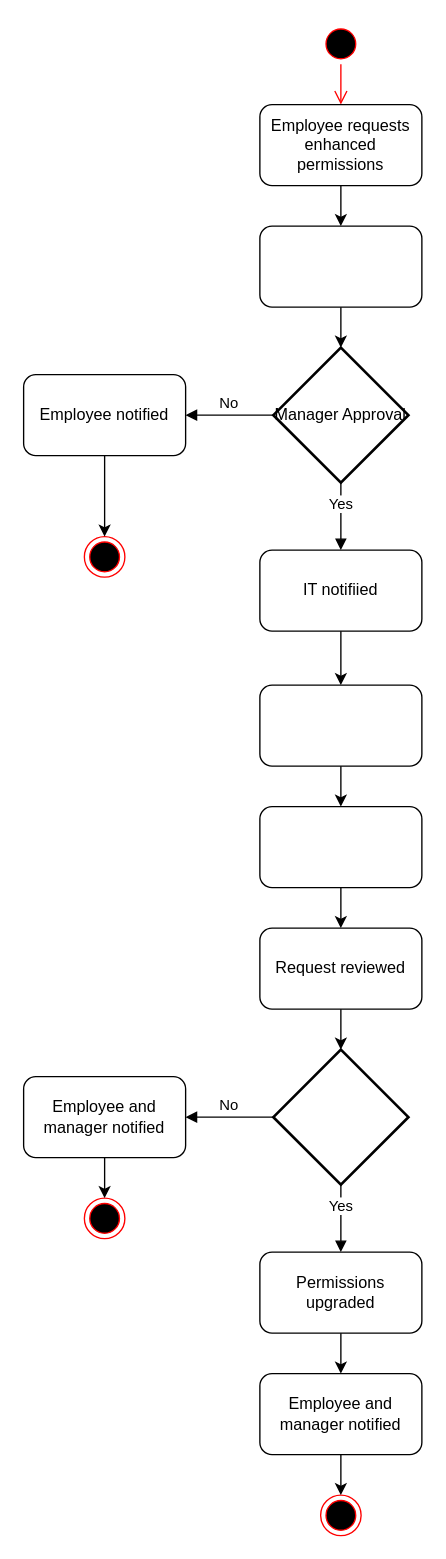
Image size: 446x1559. Some labels were removed from this diagram. Each missing label, with the box of its shape:
Access Permissions Granted: (259, 805, 422, 888)
IT Approval: (271, 1048, 409, 1185)
IT Login: (259, 684, 422, 766)
Manager Notifired: (259, 225, 422, 307)
